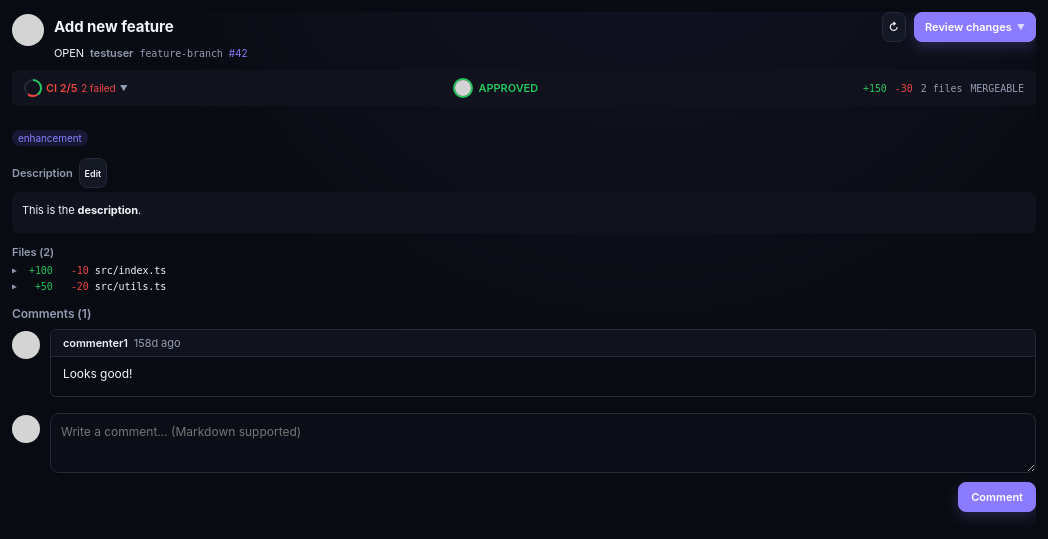
Test case: PRDetail › refresh button fetches new data
Click the button with test id "pr-refresh-btn": (894, 27) top-left (882, 12), bottom-right (906, 42)
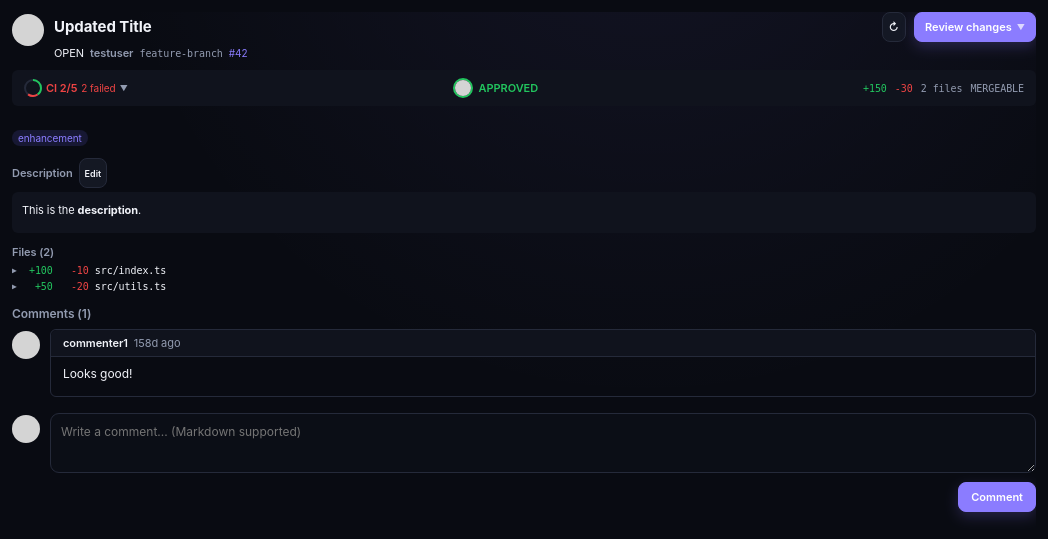
expect the text "Updated Title" is shown: met, box top-left (54, 17), bottom-right (152, 36)
